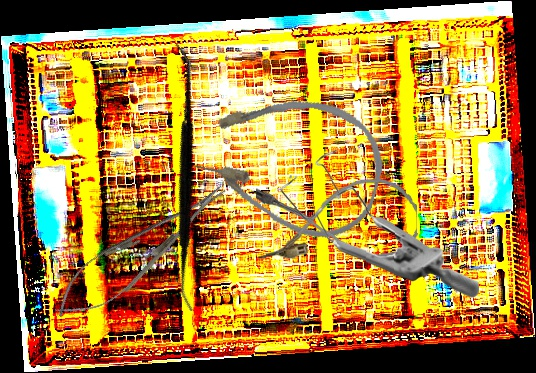Cannula: (185, 72, 396, 252), (255, 177, 419, 263)
Needle Holder: (43, 169, 239, 334)
Spatula Surgical: (65, 43, 303, 312)
Speculum: (277, 148, 484, 299)
